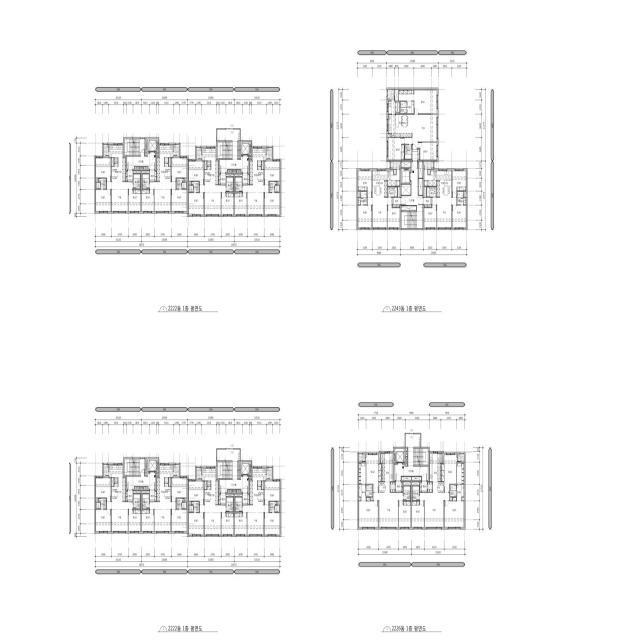space_bedroom: (358, 497, 378, 528), (441, 454, 457, 492), (445, 497, 464, 528), (366, 454, 381, 492), (414, 90, 437, 113), (188, 160, 204, 184), (188, 480, 204, 504), (95, 157, 111, 181), (95, 477, 111, 501), (358, 171, 372, 197), (452, 171, 466, 197), (172, 477, 187, 501), (172, 157, 187, 181), (265, 160, 280, 184), (265, 480, 280, 504), (188, 513, 204, 535), (188, 193, 204, 215), (95, 510, 111, 532), (388, 138, 404, 160), (95, 190, 111, 212), (418, 142, 437, 160), (265, 513, 280, 535), (265, 193, 280, 215), (172, 190, 187, 212), (172, 510, 187, 532), (399, 501, 411, 528), (412, 501, 424, 528), (452, 205, 466, 227), (358, 205, 372, 227), (128, 510, 141, 532), (128, 190, 141, 212), (221, 513, 234, 535), (424, 205, 437, 227), (221, 193, 234, 215), (235, 513, 247, 535), (388, 205, 400, 227), (142, 190, 154, 212), (235, 193, 247, 215), (142, 510, 154, 532)
space_dressroom: (358, 463, 366, 484), (399, 90, 414, 101), (457, 463, 464, 484), (358, 485, 366, 501), (457, 485, 464, 501)
space_elevator: (394, 449, 405, 463), (241, 462, 251, 475), (148, 459, 158, 472), (241, 142, 251, 155), (148, 139, 158, 152), (401, 169, 410, 183)
space_elevator_hall: (394, 434, 428, 480), (217, 129, 248, 172), (217, 449, 248, 492), (401, 162, 423, 211), (127, 459, 156, 489), (127, 139, 156, 169)
space_front: (420, 481, 427, 492), (396, 481, 403, 492), (126, 490, 133, 501), (412, 149, 419, 160), (126, 170, 133, 181), (424, 198, 432, 207), (219, 174, 226, 184), (219, 494, 226, 504), (150, 490, 156, 501), (150, 170, 156, 181), (393, 198, 400, 207), (243, 494, 249, 504), (243, 174, 249, 184)
space_kitchen: (424, 170, 452, 198), (373, 170, 400, 198), (157, 464, 174, 502), (157, 144, 174, 182), (109, 144, 126, 182), (109, 464, 126, 502), (202, 467, 219, 505), (202, 147, 219, 185), (250, 468, 266, 505), (250, 148, 266, 185), (430, 452, 444, 493), (379, 452, 393, 493), (388, 115, 412, 137)
space_living_room: (405, 115, 437, 149), (373, 493, 403, 528), (420, 493, 449, 528), (200, 505, 226, 535), (107, 502, 133, 532), (200, 185, 226, 215), (107, 182, 133, 212), (242, 185, 268, 215), (150, 182, 176, 212), (242, 505, 268, 535), (150, 502, 176, 532), (368, 198, 392, 228), (432, 198, 456, 227)
space_other: (388, 100, 400, 114), (401, 185, 411, 195), (418, 162, 423, 178), (418, 179, 423, 195), (401, 206, 416, 210), (390, 482, 395, 492), (401, 162, 411, 167), (428, 482, 432, 492), (238, 142, 240, 158), (145, 139, 147, 155), (238, 462, 240, 478), (145, 459, 147, 475), (402, 477, 411, 480), (412, 477, 421, 480), (403, 482, 411, 485), (133, 490, 141, 493), (133, 170, 141, 173), (396, 90, 398, 101), (142, 490, 149, 493), (142, 170, 149, 173), (412, 482, 419, 485), (424, 187, 426, 197), (398, 187, 400, 197), (442, 454, 444, 463), (406, 457, 408, 465), (169, 478, 171, 486), (262, 481, 264, 489), (112, 478, 114, 486), (169, 158, 171, 166), (262, 161, 264, 169), (112, 158, 114, 166), (226, 174, 234, 176), (226, 494, 234, 496), (235, 174, 242, 176), (235, 494, 242, 496), (406, 449, 408, 456), (464, 191, 466, 197), (358, 191, 360, 197), (358, 497, 361, 500), (379, 454, 380, 463), (95, 498, 98, 501), (388, 134, 391, 137), (95, 178, 98, 181), (188, 181, 191, 184), (188, 501, 191, 504), (139, 487, 143, 489), (205, 481, 206, 489), (139, 167, 143, 169), (205, 161, 206, 169), (232, 490, 236, 492), (228, 490, 232, 492), (144, 487, 148, 489), (135, 487, 139, 489), (237, 490, 241, 492), (232, 170, 236, 172), (228, 170, 232, 172), (144, 167, 148, 169), (135, 167, 139, 169), (237, 170, 241, 172), (185, 178, 187, 181), (450, 497, 452, 500), (371, 497, 373, 500), (462, 497, 464, 500), (185, 498, 187, 501), (278, 501, 280, 504), (428, 171, 430, 174), (394, 171, 396, 174), (278, 181, 280, 184), (156, 474, 158, 475), (249, 477, 251, 478), (156, 154, 158, 155), (249, 157, 251, 158)
space_outdoor_room: (388, 89, 395, 100), (267, 467, 272, 480), (196, 467, 201, 480), (267, 147, 272, 160), (196, 147, 201, 160), (391, 162, 400, 169), (424, 162, 433, 169), (103, 464, 108, 476), (174, 464, 179, 476), (174, 144, 179, 156), (103, 144, 108, 156), (358, 454, 365, 462), (458, 454, 464, 462)
space_staircase: (401, 211, 423, 228), (413, 449, 428, 465), (124, 459, 139, 475), (124, 139, 139, 155), (217, 142, 232, 158), (217, 462, 232, 478)
space_toilet: (400, 101, 414, 113), (457, 192, 466, 205), (403, 486, 411, 500), (358, 192, 367, 204), (235, 497, 242, 511), (226, 497, 233, 511), (235, 177, 242, 191), (226, 177, 233, 191), (133, 174, 140, 188), (133, 494, 140, 508), (412, 486, 419, 500), (405, 145, 412, 159), (142, 174, 149, 188), (142, 494, 149, 508), (388, 187, 397, 197), (427, 187, 436, 197), (176, 498, 184, 509), (176, 178, 184, 189), (269, 502, 277, 512), (269, 182, 277, 192), (191, 502, 199, 512), (191, 182, 199, 192), (99, 498, 106, 509), (99, 178, 106, 189), (366, 491, 373, 497), (450, 485, 457, 491), (450, 491, 457, 496), (366, 485, 373, 490), (189, 505, 193, 512), (275, 505, 279, 512), (189, 185, 193, 192), (275, 185, 279, 192), (182, 182, 186, 189), (182, 502, 186, 509), (96, 502, 100, 509), (96, 182, 100, 189)
